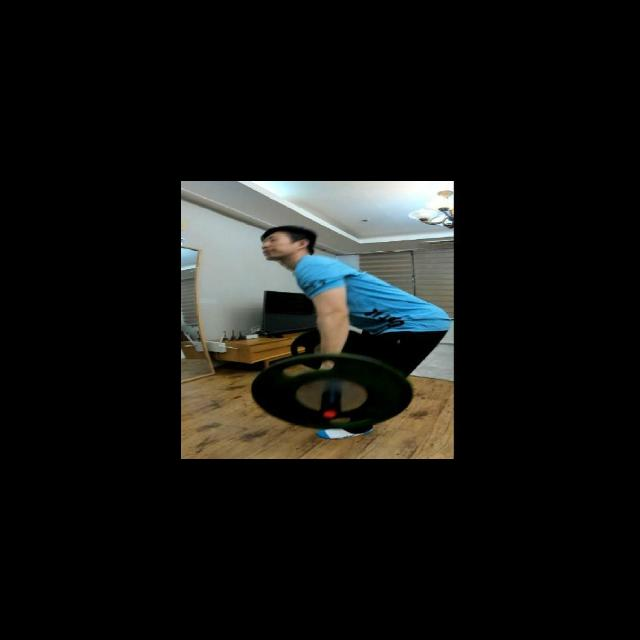barbell: (249, 351, 414, 435)
